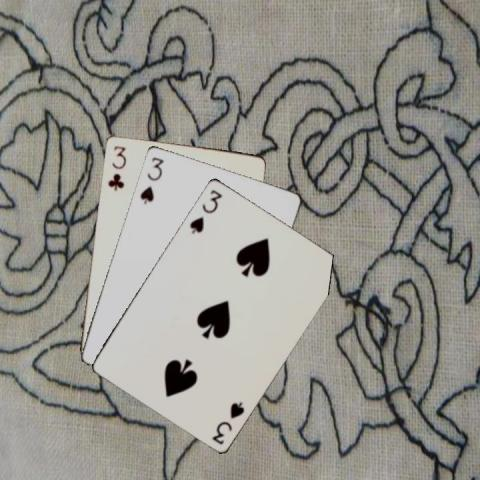3c: (105, 142, 127, 192)
3s: (186, 186, 223, 235), (209, 398, 246, 446), (136, 154, 164, 206)
